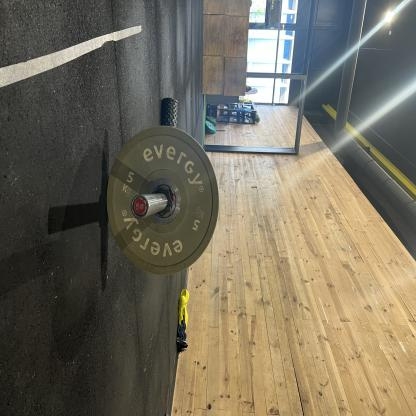barbell: (95, 263, 209, 416)
